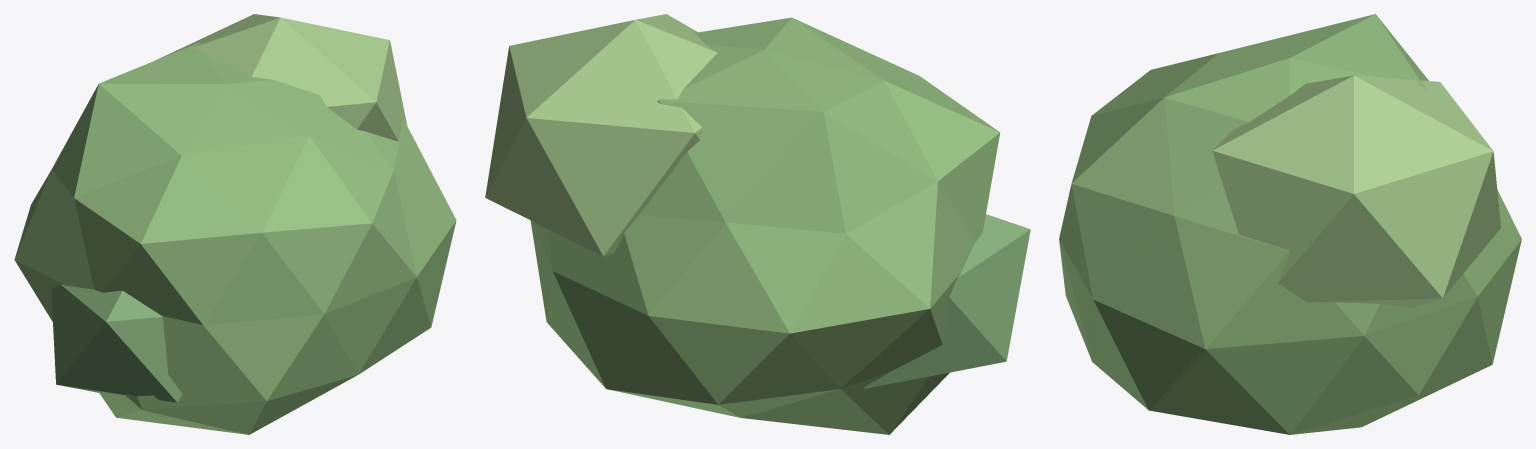
The model's file is bush-round.glb.
3 renders of one model, left to right at view 1: azimuth 30°, elevation 25°; view 2: azimuth 150°, elevation 25°; view 3: azimuth 270°, elevation 25°, orthographic. The views are drawn at different scales.
Visible parts, largest first — view 1: bush-round; view 2: bush-round; view 3: bush-round.
Part boxes in pixels (bbox=[...]): bush-round: bbox=[14, 14, 456, 434]; bush-round: bbox=[485, 14, 1030, 434]; bush-round: bbox=[1059, 14, 1521, 434].
Bounding box in the file's own units: 1.28 × 1.06 × 1.16.
